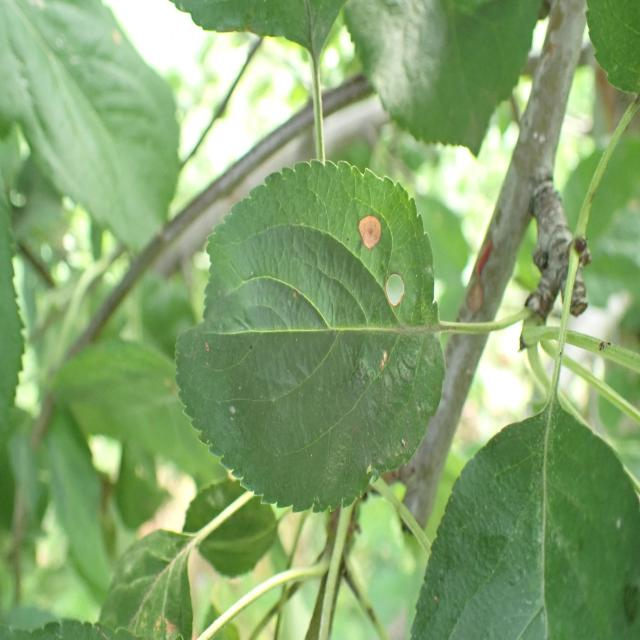frog-eye-leaf-spot: (174, 157, 446, 516)
